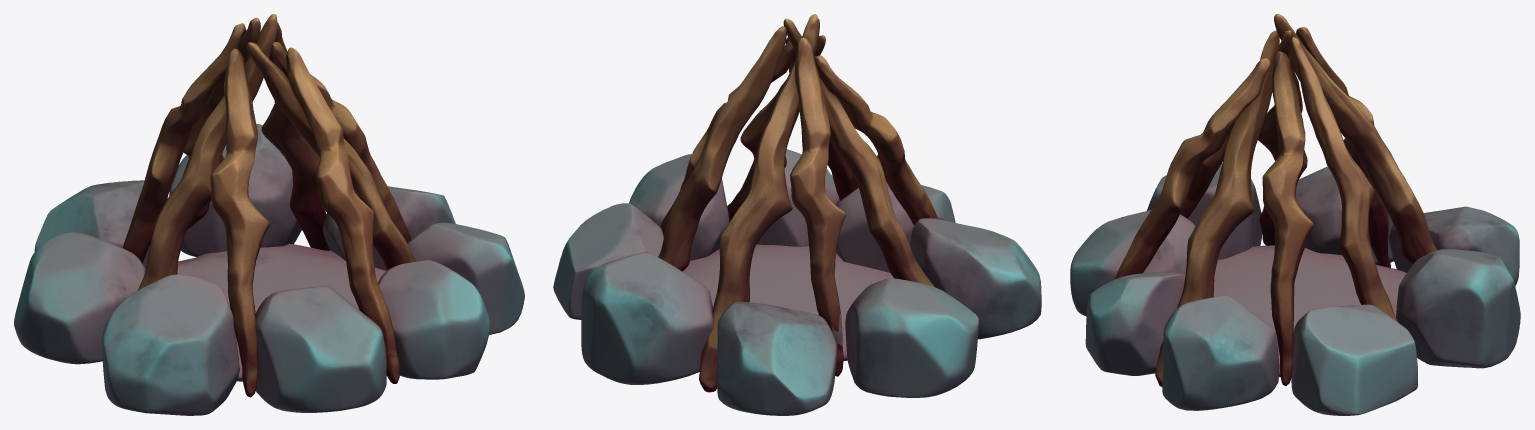
File: campfire.glb
3 views of the same model, side by side, from view 1: azimuth 30°, elevation 25°; view 2: azimuth 150°, elevation 25°; view 3: azimuth 270°, elevation 25° (orthographic). The views are drawn at different scales.
Parts seen in each view (by area): view 1: campfire; view 2: campfire; view 3: campfire.
Part boxes in pixels (box(x1,y1,x2,y2)): campfire: box(14, 14, 524, 415); campfire: box(553, 14, 1041, 415); campfire: box(1070, 14, 1520, 415).
Size of the model in its own units: 12.25 by 8.77 by 11.78.
Materials: 1 (1 with a texture image).
